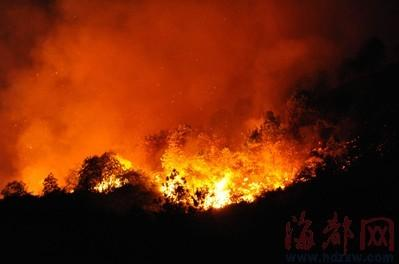fire: (171, 156, 237, 200)
yanwu: (56, 23, 279, 127)
